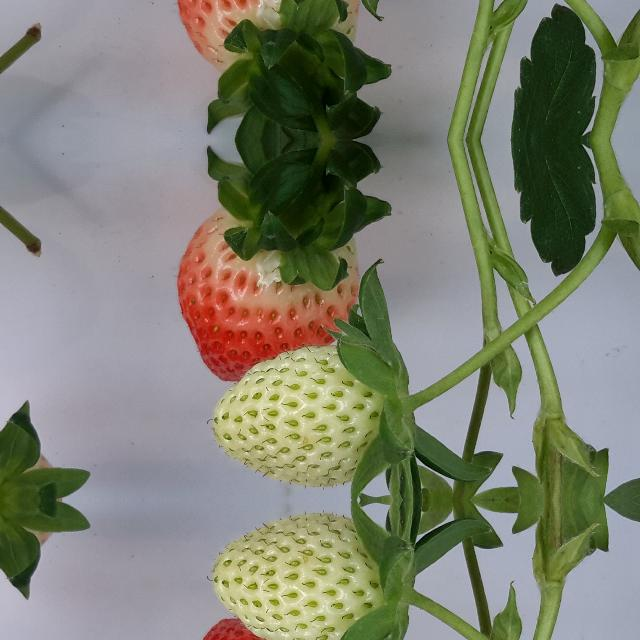Health_100: (175, 205, 362, 381), (175, 0, 362, 75)
